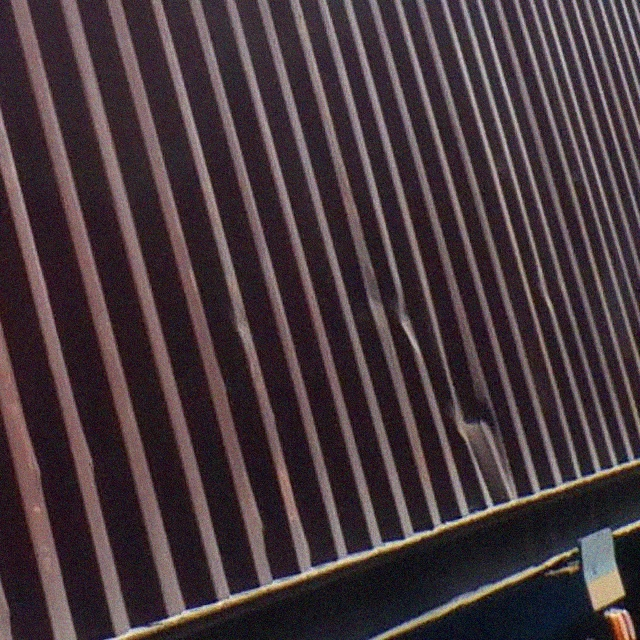Dent: (435, 386, 529, 478)
